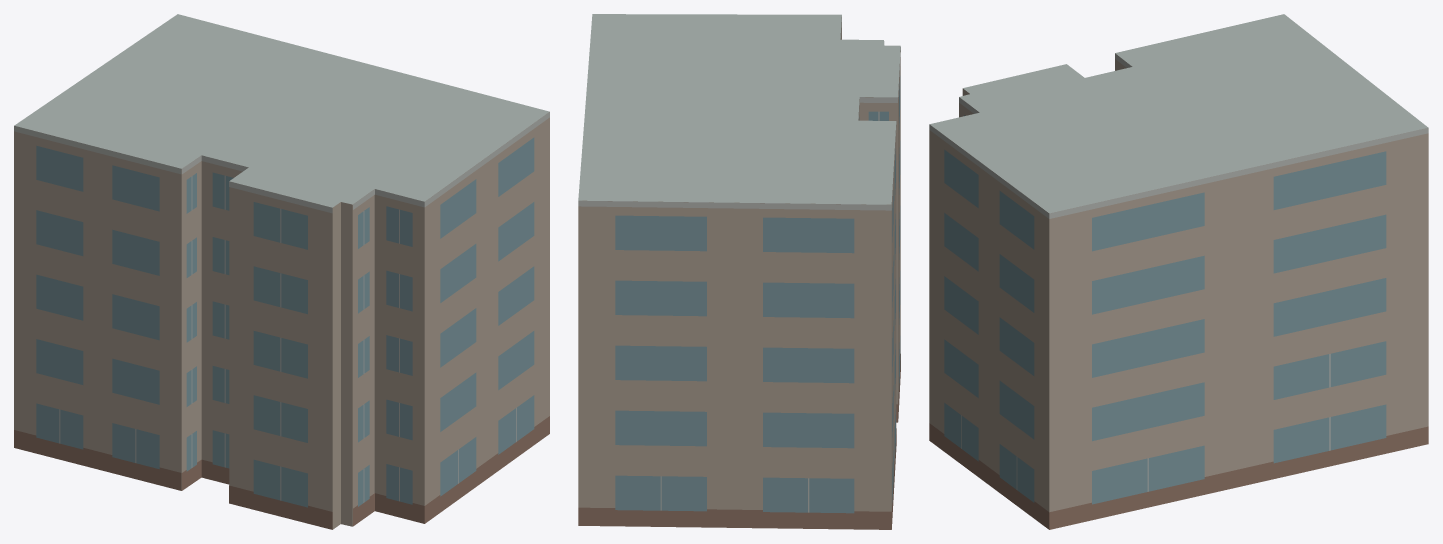
Rendered from survey-upis-32971679.glb.
3 renders of one model, left to right at view 1: azimuth 30°, elevation 25°; view 2: azimuth 150°, elevation 25°; view 3: azimuth 270°, elevation 25°, orthographic. The views are drawn at different scales.
Visible parts, largest first — view 1: survey-upis-32971679.tmp; view 2: survey-upis-32971679.tmp; view 3: survey-upis-32971679.tmp.
Part boxes in pixels (box(x1,y1,x2,y2)): survey-upis-32971679.tmp: box(14, 14, 549, 529); survey-upis-32971679.tmp: box(578, 14, 900, 529); survey-upis-32971679.tmp: box(929, 14, 1428, 529).
Bounding box in the file's own units: 18.58 × 13.74 × 19.65.
